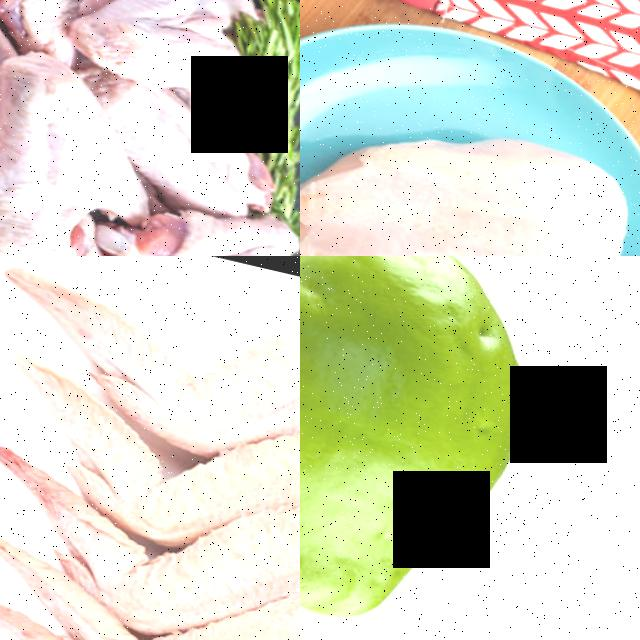chayote: (300, 256, 604, 640)
chicken breast: (300, 78, 640, 256)
chicken wing: (0, 258, 300, 480), (0, 438, 300, 640), (0, 508, 300, 640), (0, 36, 179, 256), (51, 0, 262, 97)
